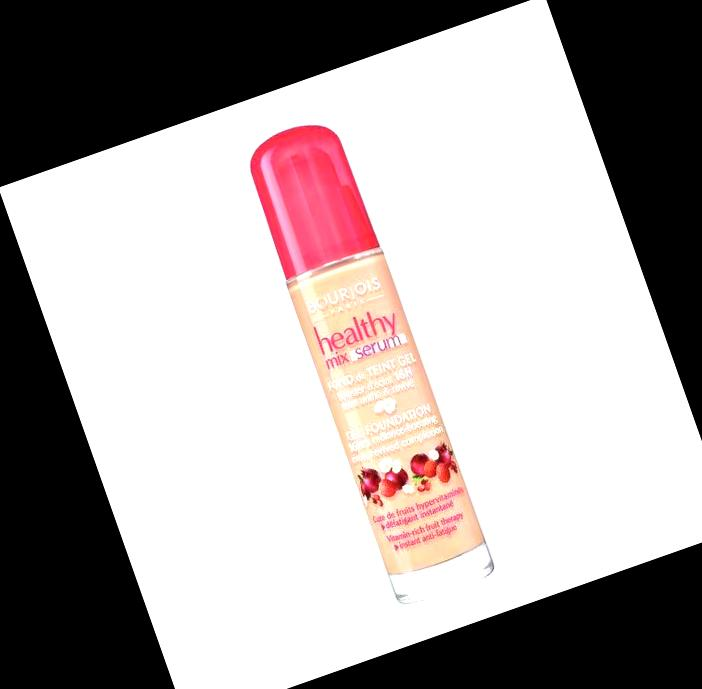cosmetic: (233, 112, 497, 606)
